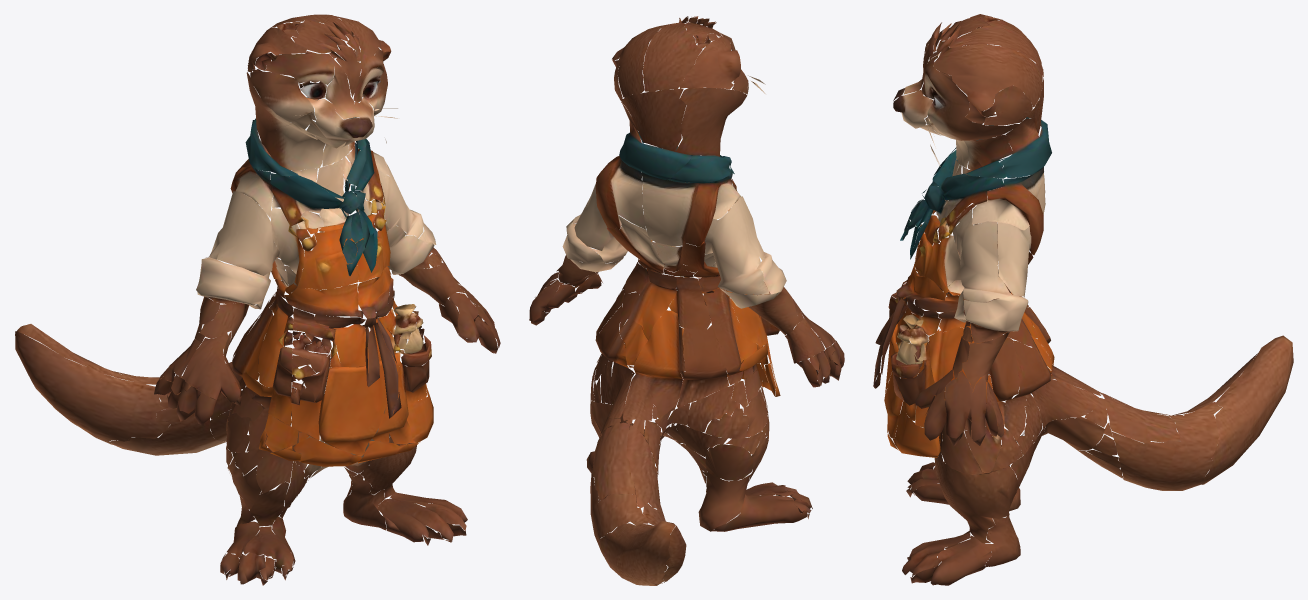
The model's file is 07_rival_otter-mobile-v1.glb.
3 renders of one model, left to right at view 1: azimuth 30°, elevation 25°; view 2: azimuth 150°, elevation 25°; view 3: azimuth 270°, elevation 25°, orthographic. The views are drawn at different scales.
Parts seen in each view (by area): view 1: tripo_node_c20dc0f6-3ea8-4054-82cd-fb1ddbfe8099; view 2: tripo_node_c20dc0f6-3ea8-4054-82cd-fb1ddbfe8099; view 3: tripo_node_c20dc0f6-3ea8-4054-82cd-fb1ddbfe8099.
Part boxes in pixels (x1,y1,x2,y2): tripo_node_c20dc0f6-3ea8-4054-82cd-fb1ddbfe8099: (15,14,500,585); tripo_node_c20dc0f6-3ea8-4054-82cd-fb1ddbfe8099: (529,16,844,585); tripo_node_c20dc0f6-3ea8-4054-82cd-fb1ddbfe8099: (873,14,1293,585).
Bounding box in the file's own units: 1.15 × 1.8 × 1.35.
1 material, 1 textured.
